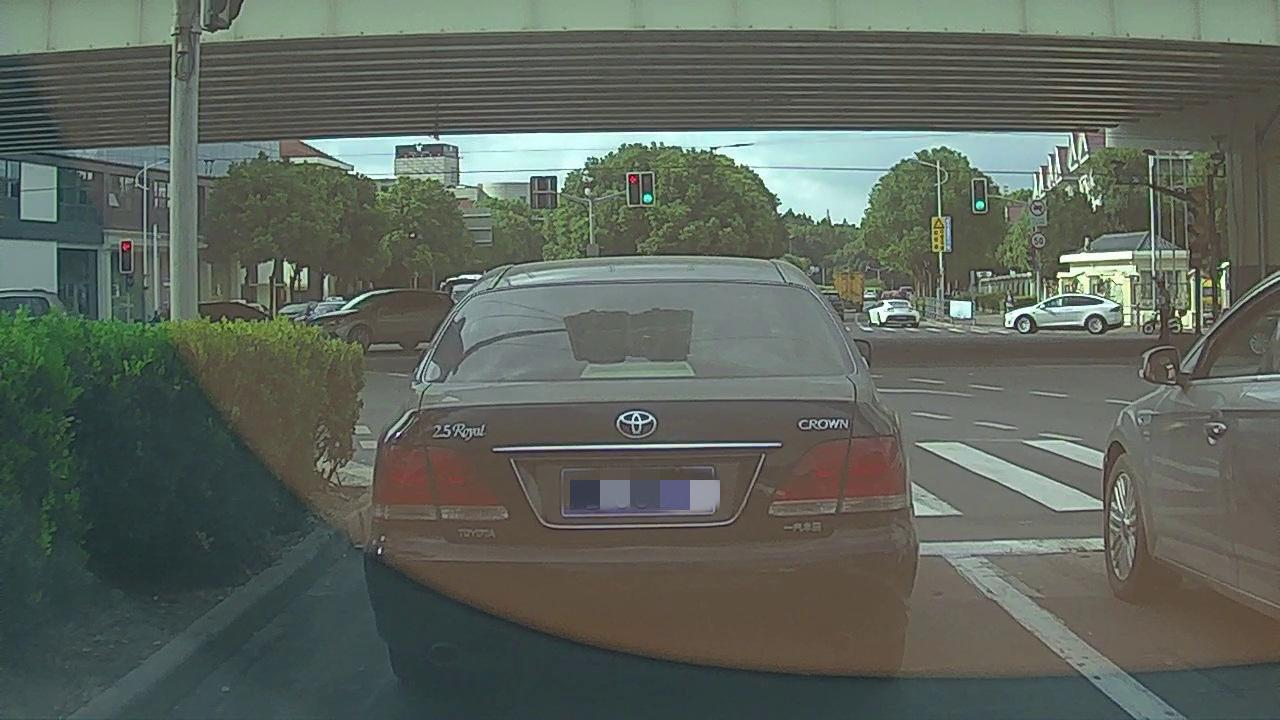traffic_light: (639, 170, 654, 207), (974, 180, 987, 212), (628, 172, 641, 203)
